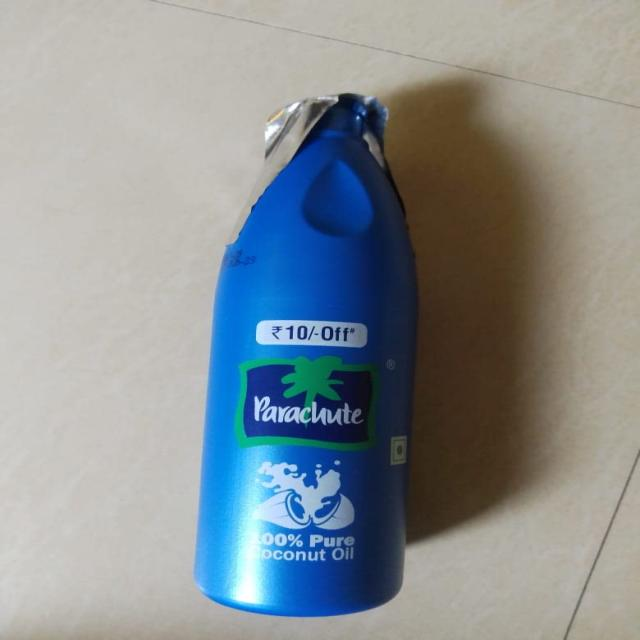parachute_oil: (198, 91, 430, 620)
